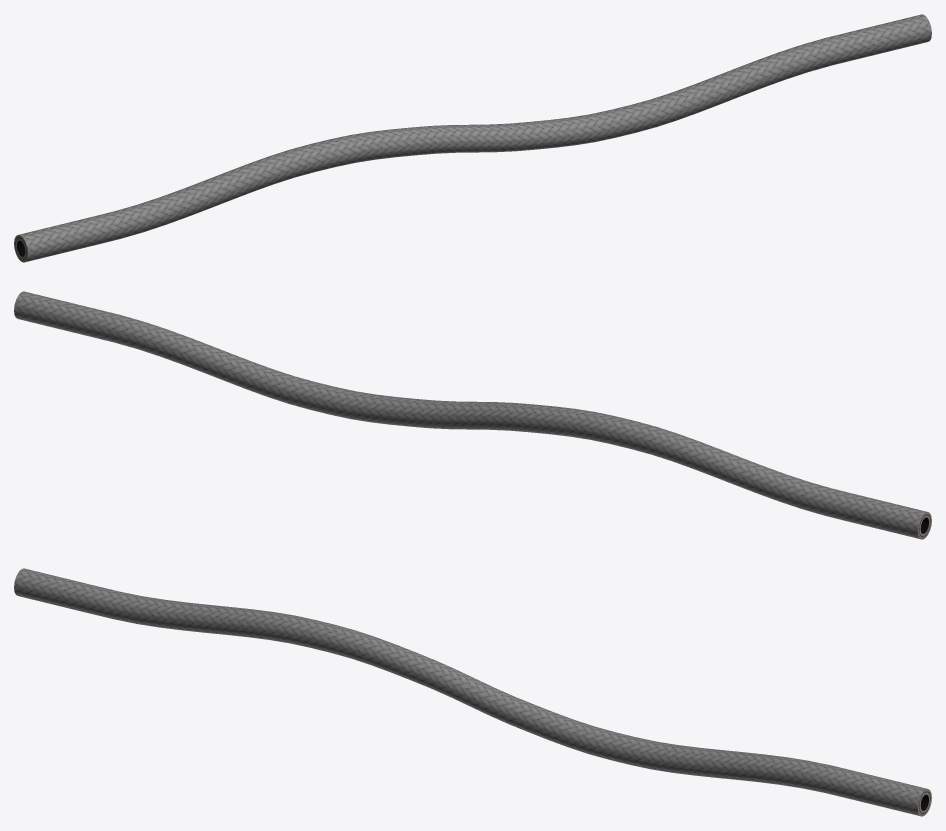
The picture shows the model from 3 angles, top to bottom: view 1: azimuth 30°, elevation 25°; view 2: azimuth 150°, elevation 25°; view 3: azimuth 330°, elevation 25°; orthographic projection.
Parts seen in each view (by area): view 1: SB_SS-04; view 2: SB_SS-04; view 3: SB_SS-04.
Boxes of the visible parts, x1=… form: SB_SS-04: x1=14, y1=14, x2=931, y2=262; SB_SS-04: x1=14, y1=291, x2=931, y2=539; SB_SS-04: x1=14, y1=568, x2=931, y2=816.
Bounding box in the file's own units: 0.3074 × 0.0211 × 0.00838.
2 materials, 2 textured.
